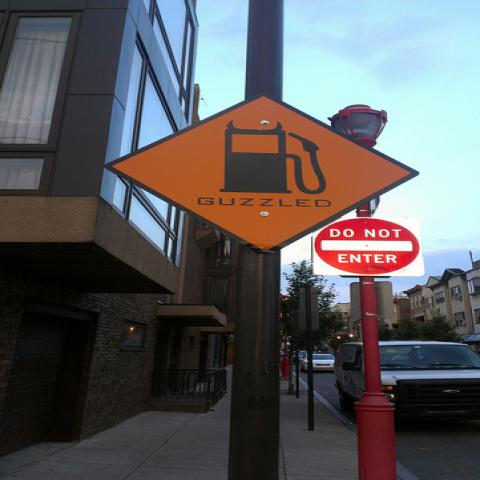car: (301, 354, 334, 372), (292, 351, 308, 364)
truck: (331, 339, 479, 421)
